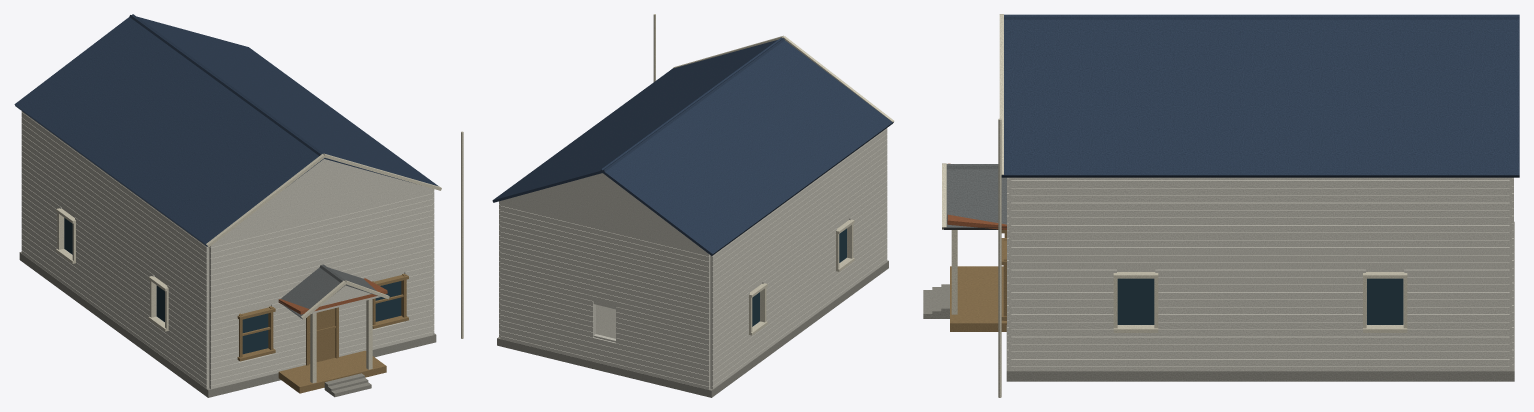
The model's file is SCHOOL2_lod2.glb.
The picture shows the model from 3 angles, left to right: view 1: azimuth 30°, elevation 25°; view 2: azimuth 150°, elevation 25°; view 3: azimuth 270°, elevation 25°; orthographic projection. The views are drawn at different scales.
Parts seen in each view (by area): view 1: SCHOOL2_LOD2; view 2: SCHOOL2_LOD2; view 3: SCHOOL2_LOD2.
Part boxes in pixels (box(x1,y1,x2,y2)): SCHOOL2_LOD2: box(14, 14, 463, 397); SCHOOL2_LOD2: box(492, 14, 894, 397); SCHOOL2_LOD2: box(923, 14, 1519, 397).
Size of the model in its own units: 10.38 by 8.42 by 15.56.
11 materials, 9 textured.
